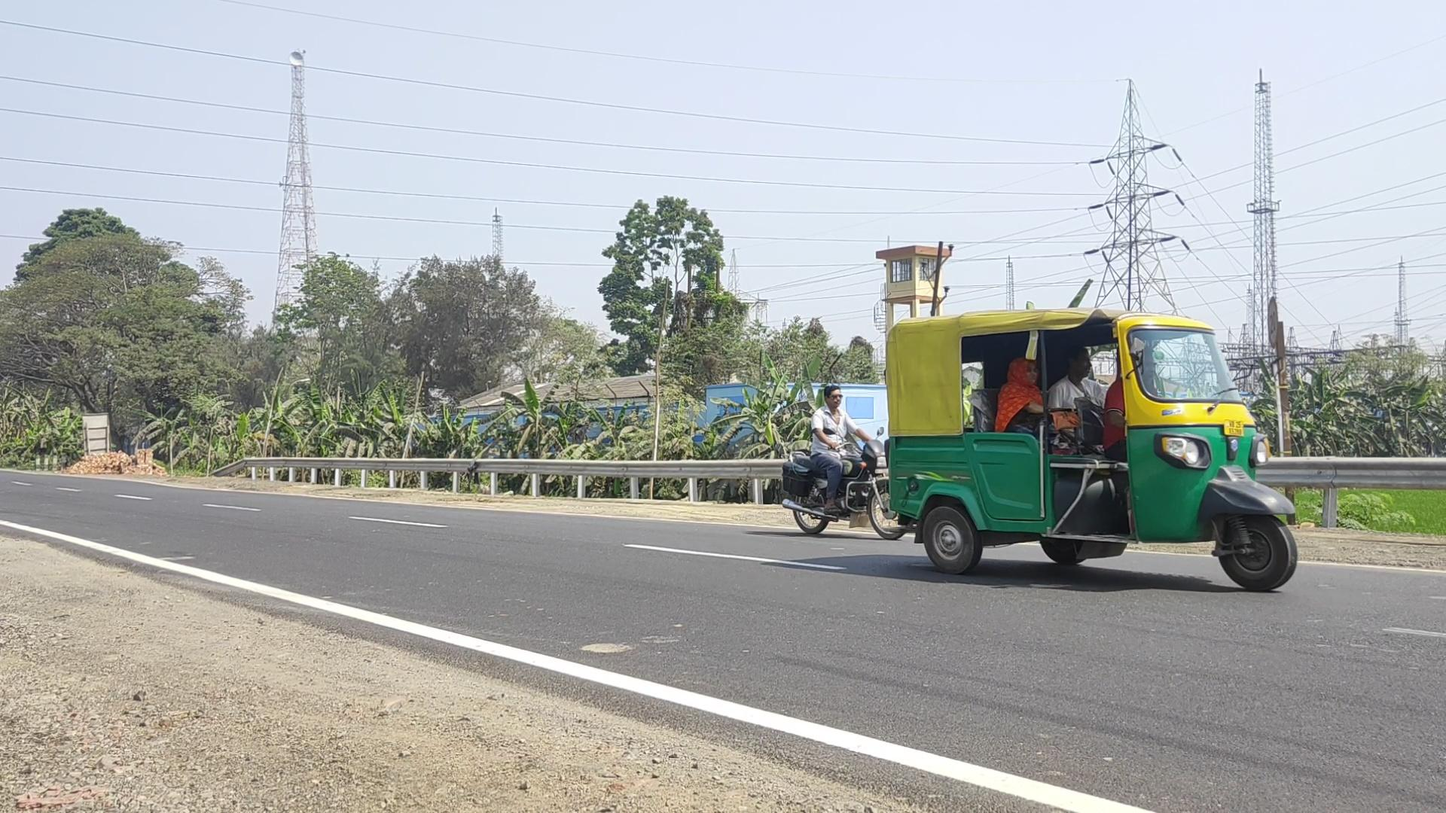Auto: (885, 307, 1298, 592)
bike: (781, 385, 909, 540)
